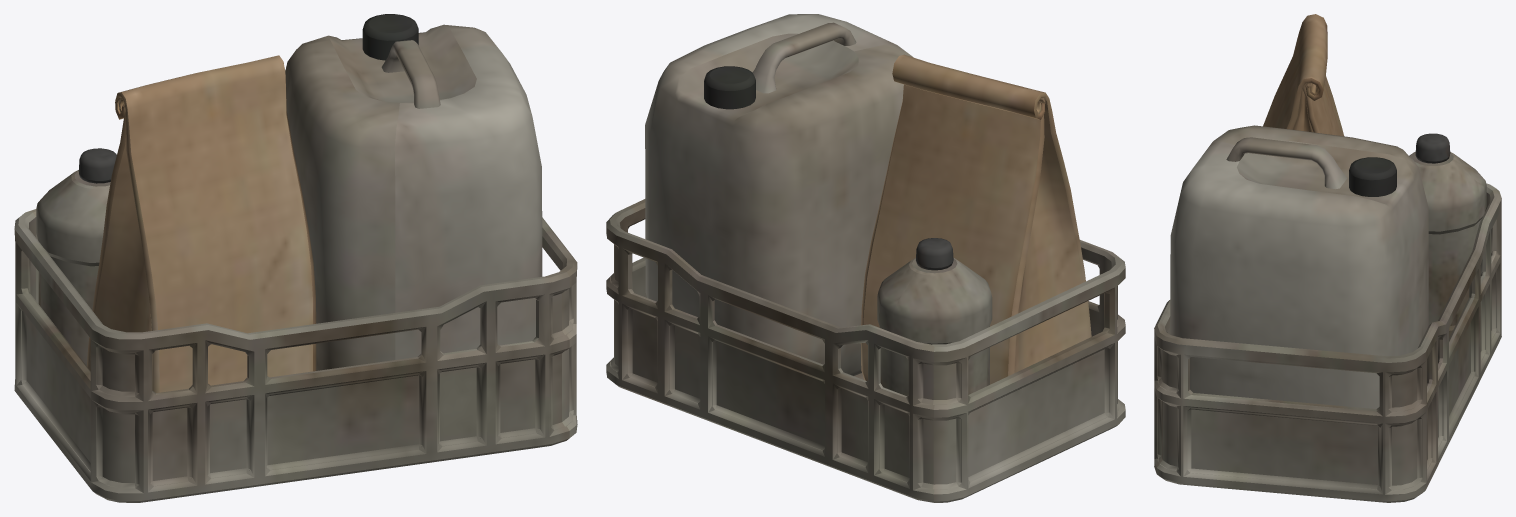
The model's file is prop_small_005.glb.
The picture shows the model from 3 angles, left to right: view 1: azimuth 30°, elevation 25°; view 2: azimuth 150°, elevation 25°; view 3: azimuth 270°, elevation 25°; orthographic projection. The views are drawn at different scales.
Visible parts, largest first — view 1: Building_12_009; view 2: Building_12_009; view 3: Building_12_009.
Part boxes in pixels (x1,y1,x2,y2): Building_12_009: [14, 14, 577, 502]; Building_12_009: [606, 14, 1125, 502]; Building_12_009: [1154, 14, 1501, 502].
Bounding box in the file's own units: 0.8 × 0.5915 × 0.5901.
1 material, 1 textured.
